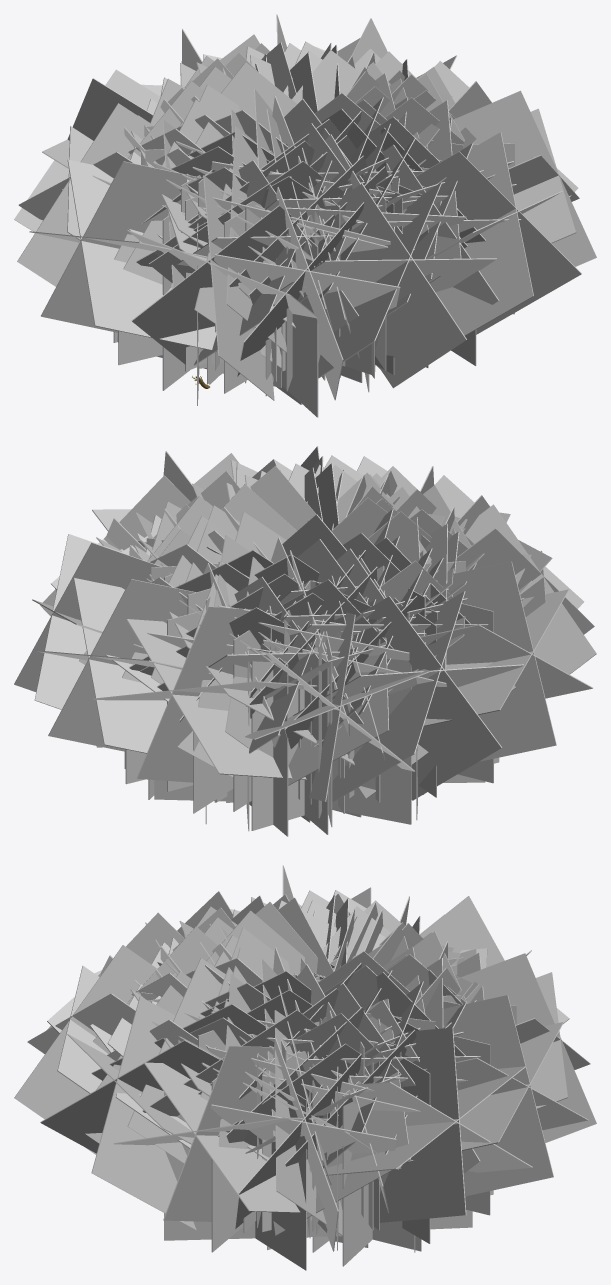
Rendered from TreeTopBushesNew.fbx.
3 views of the same model, one above another, from view 1: azimuth 30°, elevation 25°; view 2: azimuth 150°, elevation 25°; view 3: azimuth 270°, elevation 25° (orthographic).
Parts seen in each view (by area): view 1: pPlane219; view 2: pPlane219; view 3: pPlane219.
Part boxes in pixels (left/top/right/bottom): pPlane219: left=14, top=14, right=596, bottom=417; pPlane219: left=14, top=446, right=596, bottom=836; pPlane219: left=14, top=865, right=596, bottom=1270.
Size of the model in its own units: 6.82 by 3.68 by 6.82.
